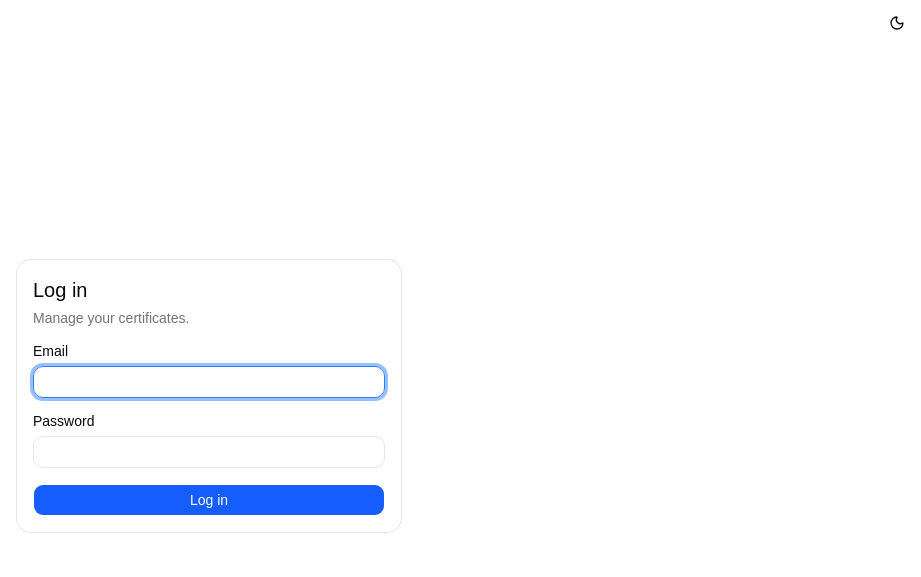
Test: LoginPage › shows one generic message for wrong credentials
The width and height of the screenshot is (921, 577).
Type "owner@example.com" into the field labelled "Email".
click(209, 382); type("owner@example.com")  # box x1=33 y1=366 x2=385 y2=398
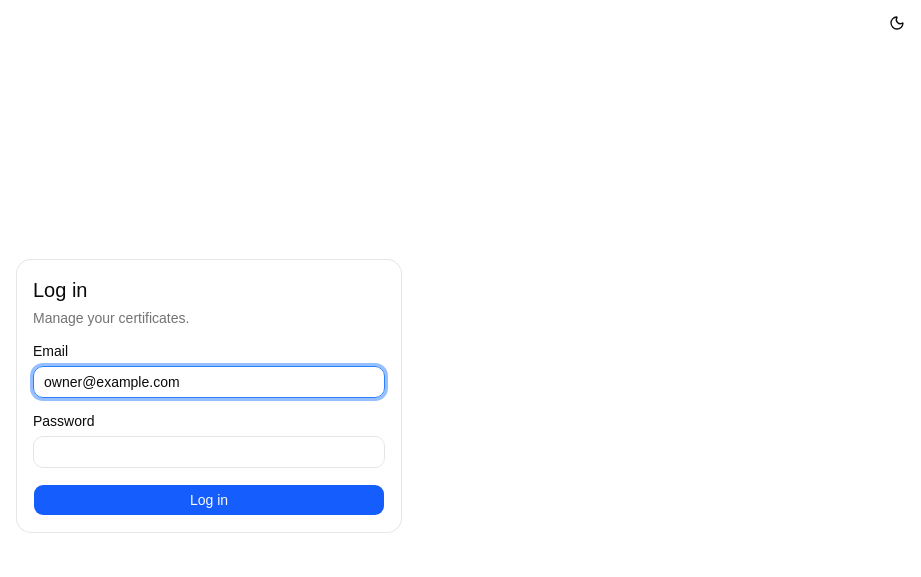
Type "wrong-password" into the password field labelled "Password".
click(209, 452); type("wrong-password")  # box x1=33 y1=436 x2=385 y2=468
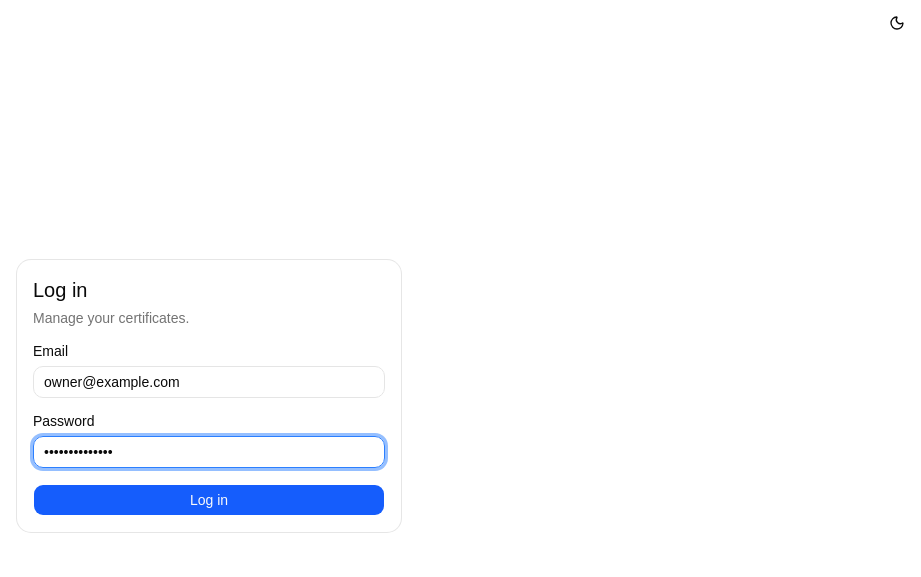
Click the button "Log in".
click(209, 500)  # box x1=33 y1=484 x2=385 y2=516
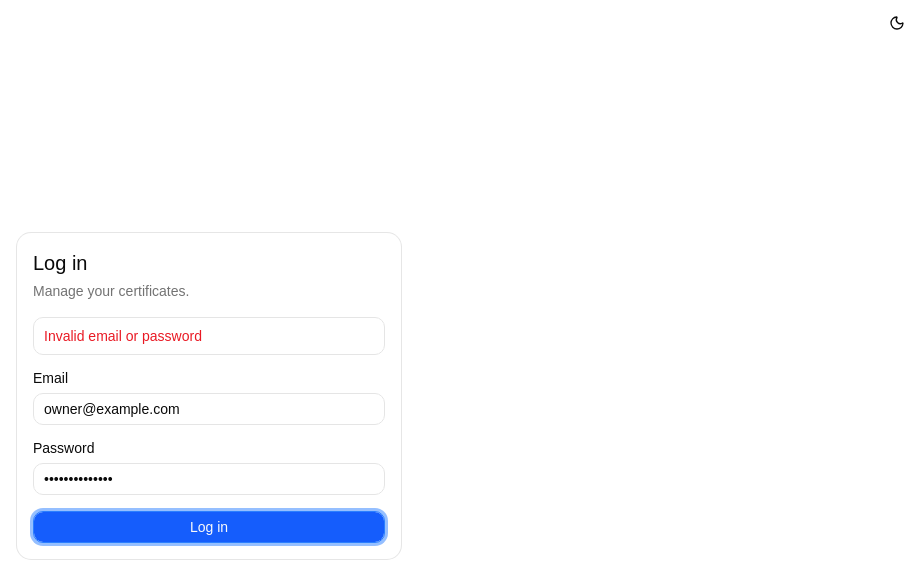
Expected: the message reads "Invalid email or password", x1=44 y1=328 x2=202 y2=344
